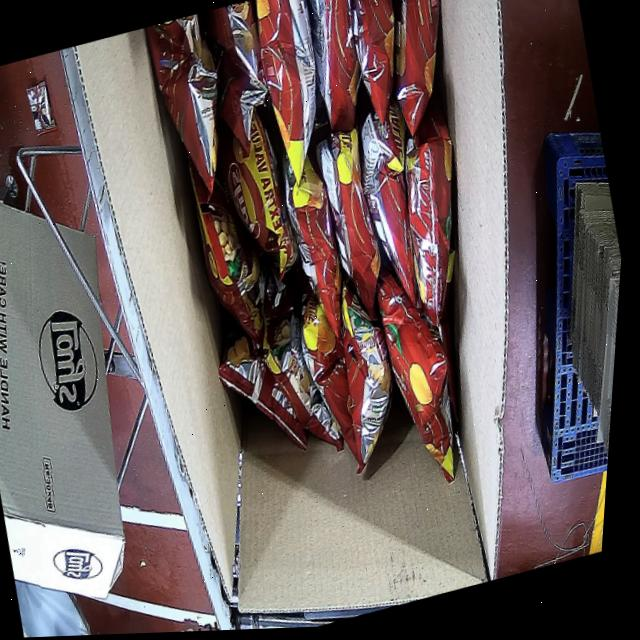MASALA: (109, 0, 551, 543)
